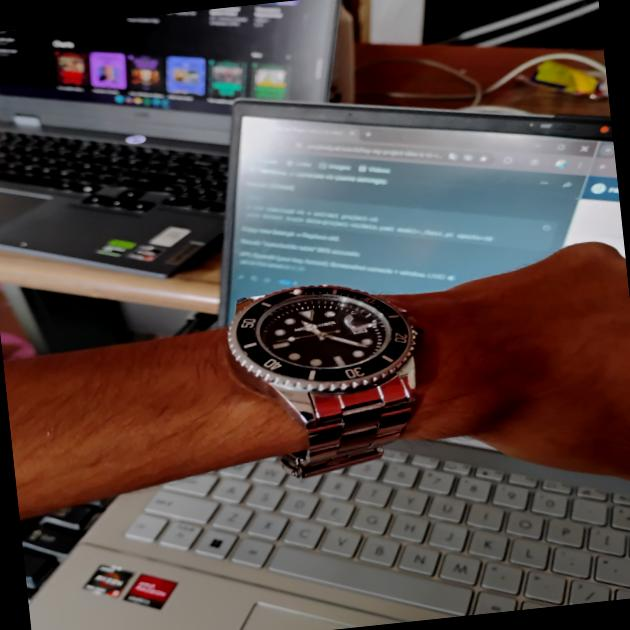wristwatch: (211, 252, 454, 492)
